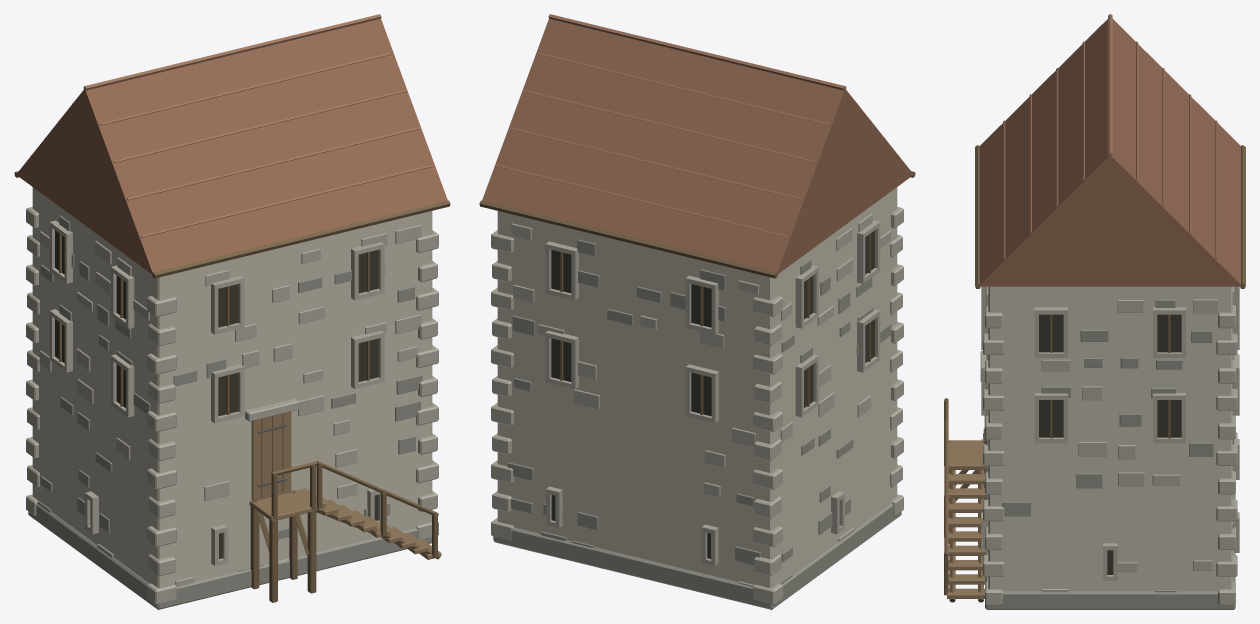
The model's file is fort_manor.glb.
3 renders of one model, left to right at view 1: azimuth 30°, elevation 25°; view 2: azimuth 150°, elevation 25°; view 3: azimuth 270°, elevation 25°, orthographic. The views are drawn at different scales.
Visible parts, largest first — view 1: fort_manor_fort_plaster, fort_manor_fort_roof, fort_manor_fort_stone_light, fort_manor_fort_stone_dark, fort_manor_oak_dark, fort_manor_oak, fort_manor_fort_roof_light, fort_manor_black; view 2: fort_manor_fort_plaster, fort_manor_fort_roof, fort_manor_fort_stone_light, fort_manor_fort_stone_dark, fort_manor_fort_roof_light, fort_manor_black, fort_manor_oak_dark; view 3: fort_manor_fort_plaster, fort_manor_fort_roof, fort_manor_fort_stone_light, fort_manor_fort_stone_dark, fort_manor_oak, fort_manor_fort_roof_light, fort_manor_black, fort_manor_oak_dark.
Boxes of the visible parts, x1,y1,x2,y2 form: fort_manor_fort_plaster: (32,187,432,587); fort_manor_fort_roof: (16,18,447,274); fort_manor_fort_stone_light: (26,207,438,604); fort_manor_fort_stone_dark: (28,215,431,609); fort_manor_oak_dark: (14,171,450,602); fort_manor_oak: (249,412,441,559); fort_manor_fort_roof_light: (31,14,433,237); fort_manor_black: (55,230,378,558); fort_manor_fort_plaster: (497,187,897,587); fort_manor_fort_roof: (482,18,913,274); fort_manor_fort_stone_light: (491,207,903,604); fort_manor_fort_stone_dark: (493,239,901,609); fort_manor_fort_roof_light: (496,14,898,237); fort_manor_black: (551,230,874,558); fort_manor_oak_dark: (479,171,915,414); fort_manor_fort_plaster: (988,286,1232,590); fort_manor_fort_roof: (979,19,1241,286); fort_manor_fort_stone_light: (980,286,1239,605); fort_manor_fort_stone_dark: (985,299,1235,609); fort_manor_oak: (947,415,986,598); fort_manor_fort_roof_light: (1003,14,1217,259); fort_manor_black: (1039,314,1181,574); fort_manor_oak_dark: (944,145,1245,602).
Size of the model in its own units: 6.45 by 10 by 5.92.
